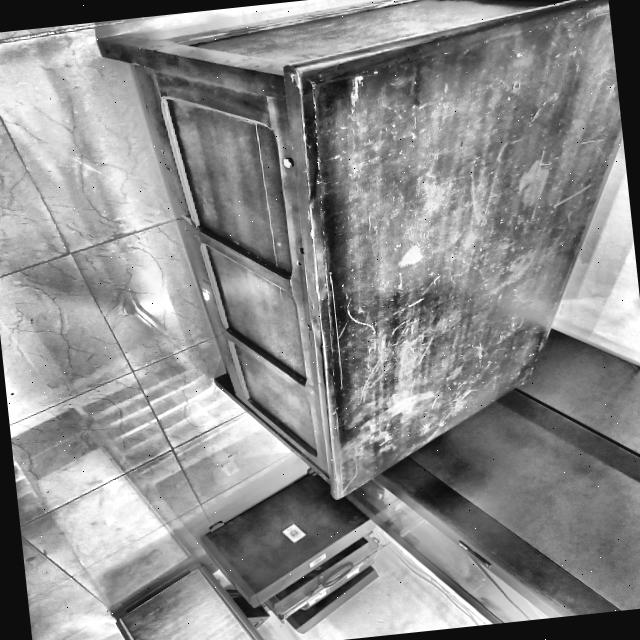table: (78, 0, 640, 526)
